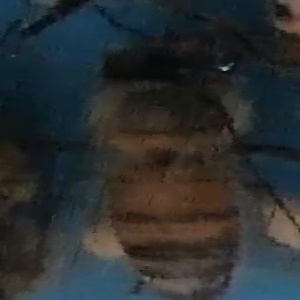bee: (95, 33, 273, 297)
